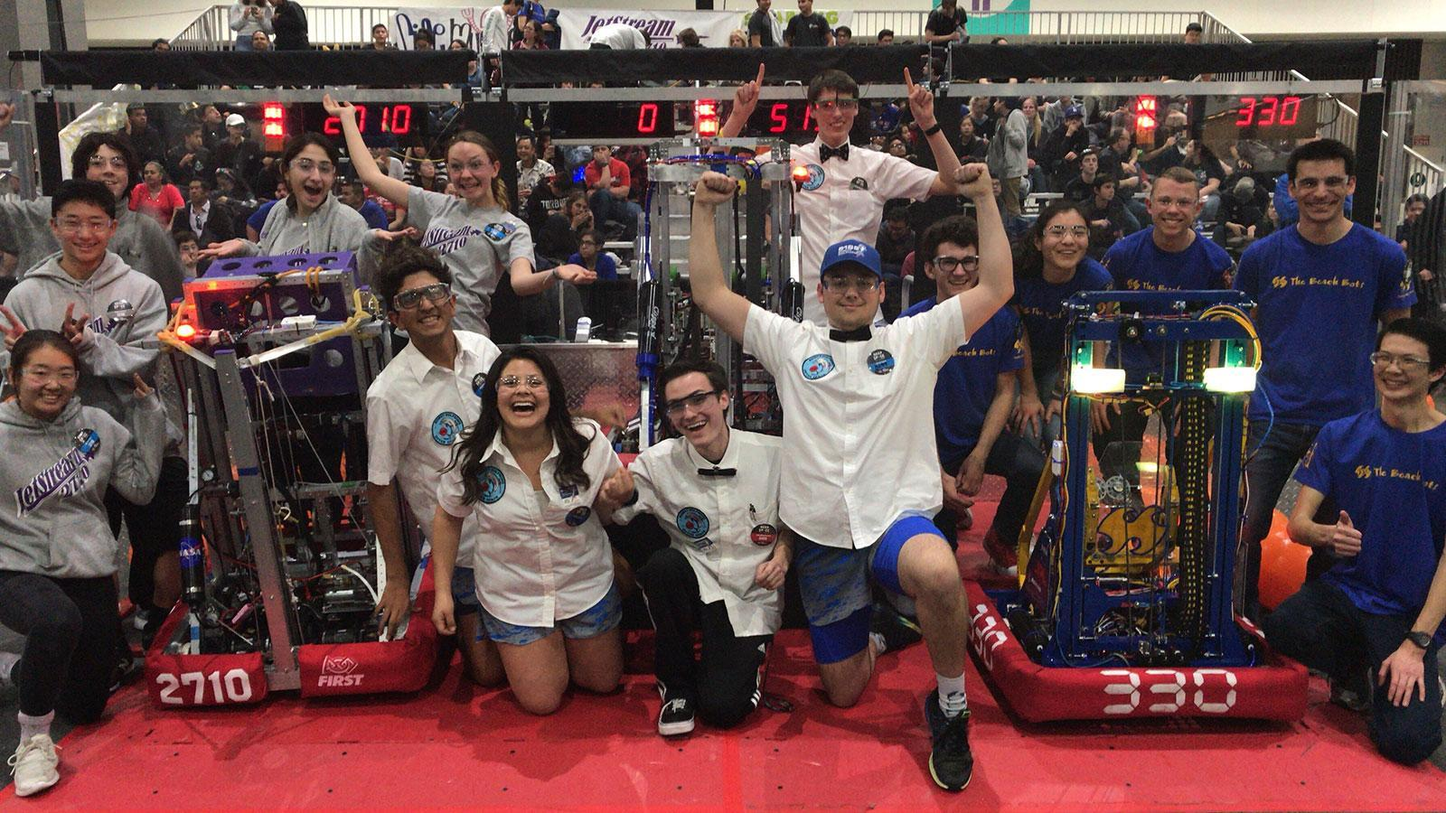robot: (960, 277, 1315, 742), (142, 248, 453, 702), (617, 126, 838, 654)
